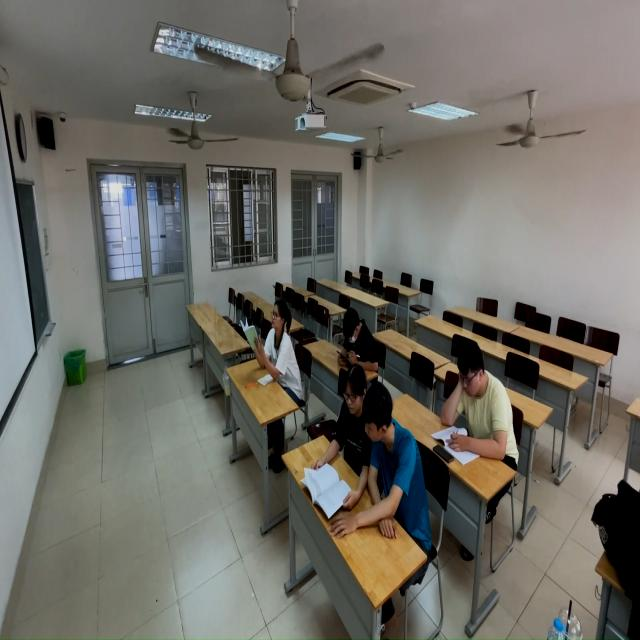read: (359, 370, 427, 554), (432, 342, 524, 473), (319, 355, 375, 489), (254, 296, 316, 407), (336, 306, 378, 368)
